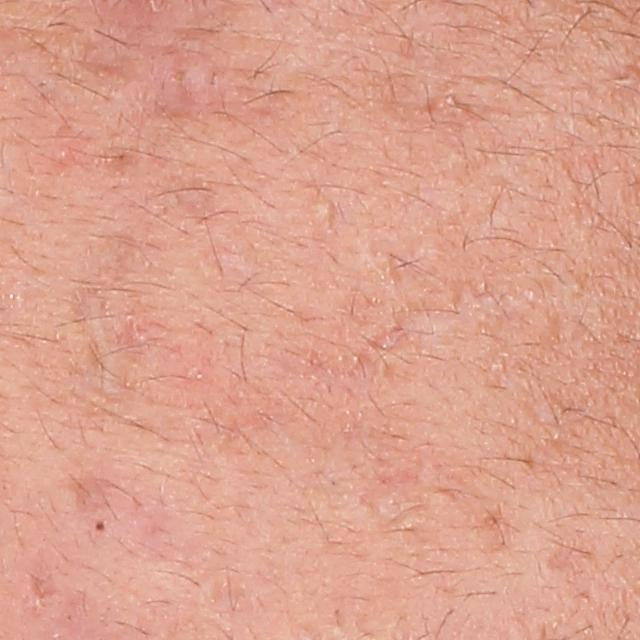atrophic_scar: (64, 226, 140, 408), (28, 570, 64, 603)
comedo: (306, 193, 342, 224), (82, 513, 114, 537), (53, 146, 74, 168)
